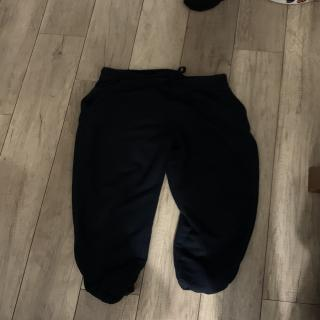Navy Sweatpants: (72, 68, 256, 303)
